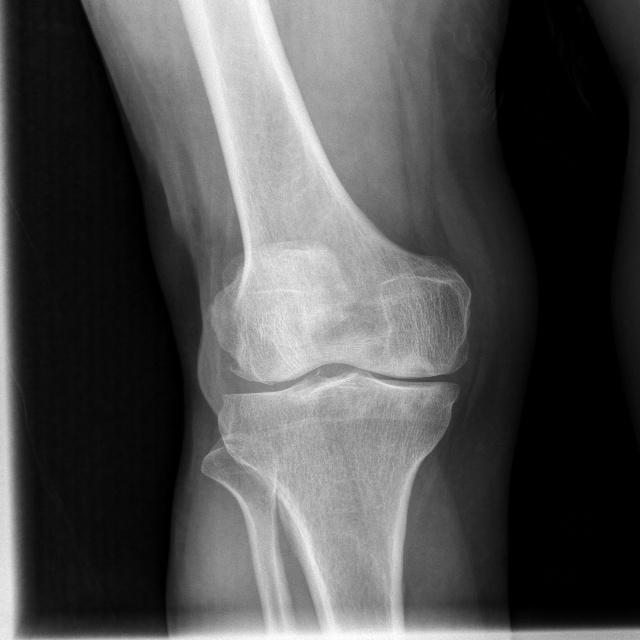Knee: (198, 277, 472, 455)
